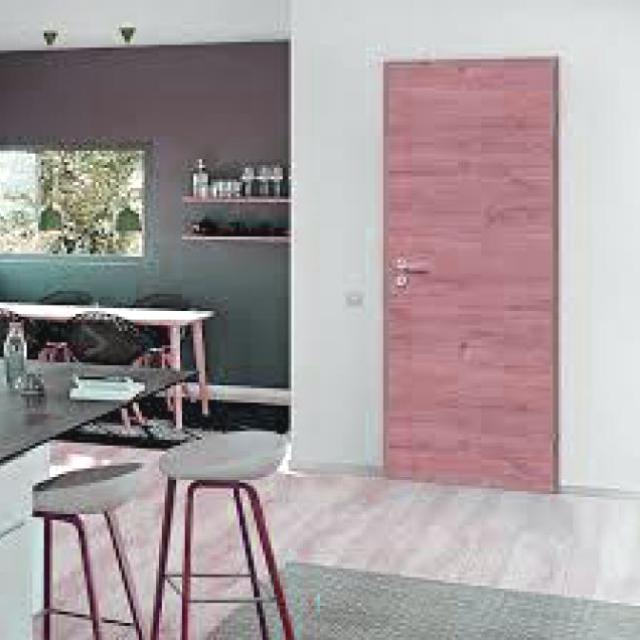door: (381, 55, 559, 492)
